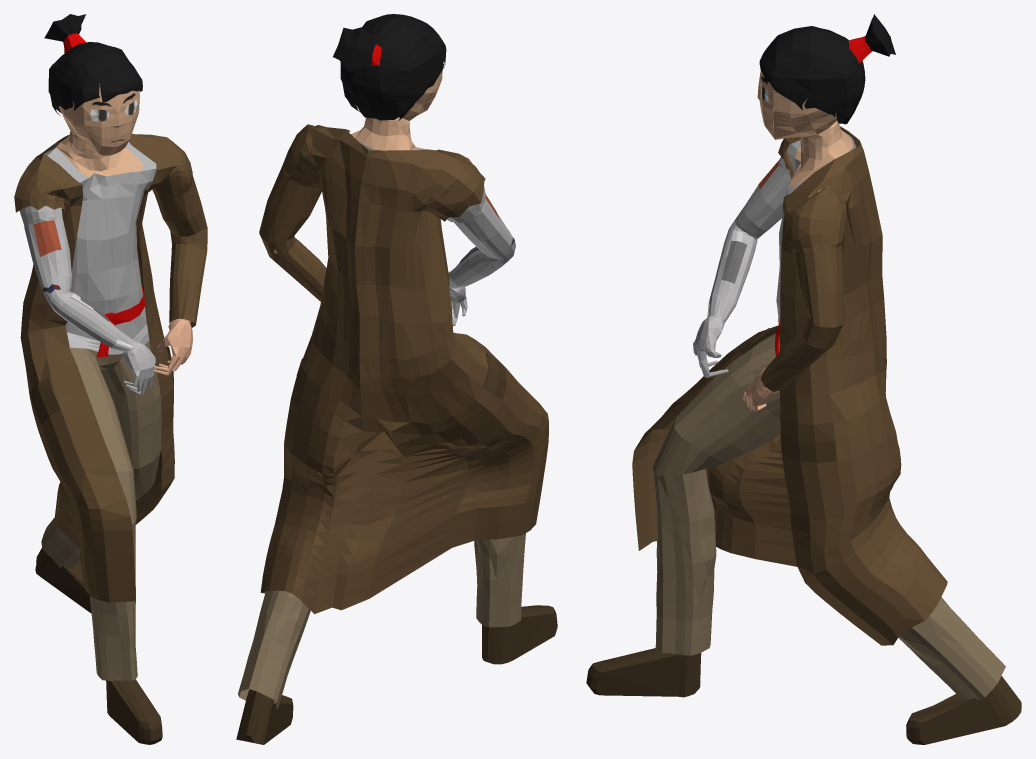
Rendered from One_Bash_000013.obj.
3 views of the same model, side by side, from view 1: azimuth 30°, elevation 25°; view 2: azimuth 150°, elevation 25°; view 3: azimuth 270°, elevation 25° (orthographic). The views are drawn at different scales.
Visible parts, largest first — view 1: Hair_Cube.004; view 2: Hair_Cube.004; view 3: Hair_Cube.004.
Part boxes in pixels (<box>): Hair_Cube.004: <box>14,14,207,744</box>; Hair_Cube.004: <box>236,14,557,744</box>; Hair_Cube.004: <box>586,14,1021,744</box>.
Size of the model in its own units: 1.2 by 3.69 by 2.1.
